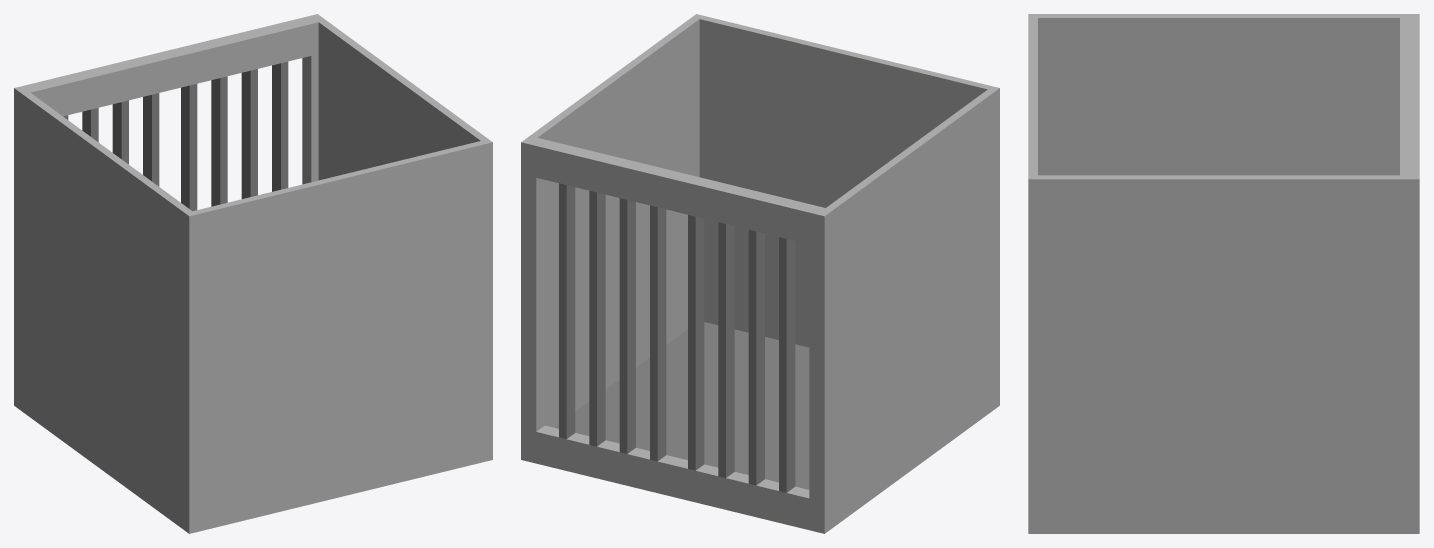
Rendered from gaybabyjail.glb.
3 views of the same model, side by side, from view 1: azimuth 30°, elevation 25°; view 2: azimuth 150°, elevation 25°; view 3: azimuth 270°, elevation 25° (orthographic). The views are drawn at different scales.
Parts seen in each view (by area): view 1: Untitled; view 2: Untitled; view 3: Untitled.
Boxes of the visible parts, x1,y1,x2,y2 form: Untitled: (14, 14, 492, 533); Untitled: (521, 14, 999, 533); Untitled: (1028, 14, 1419, 533).
Bounding box in the file's own units: 4 × 4 × 4.
1 material, 1 textured.
